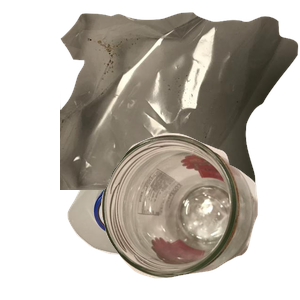glass: (98, 131, 300, 300)
metal: (99, 68, 244, 184)
plastic: (65, 123, 257, 300)
trash: (60, 10, 300, 190)
